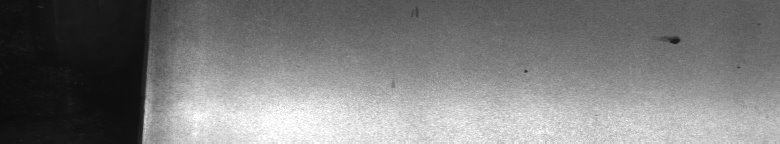fi: (663, 32, 680, 48)
